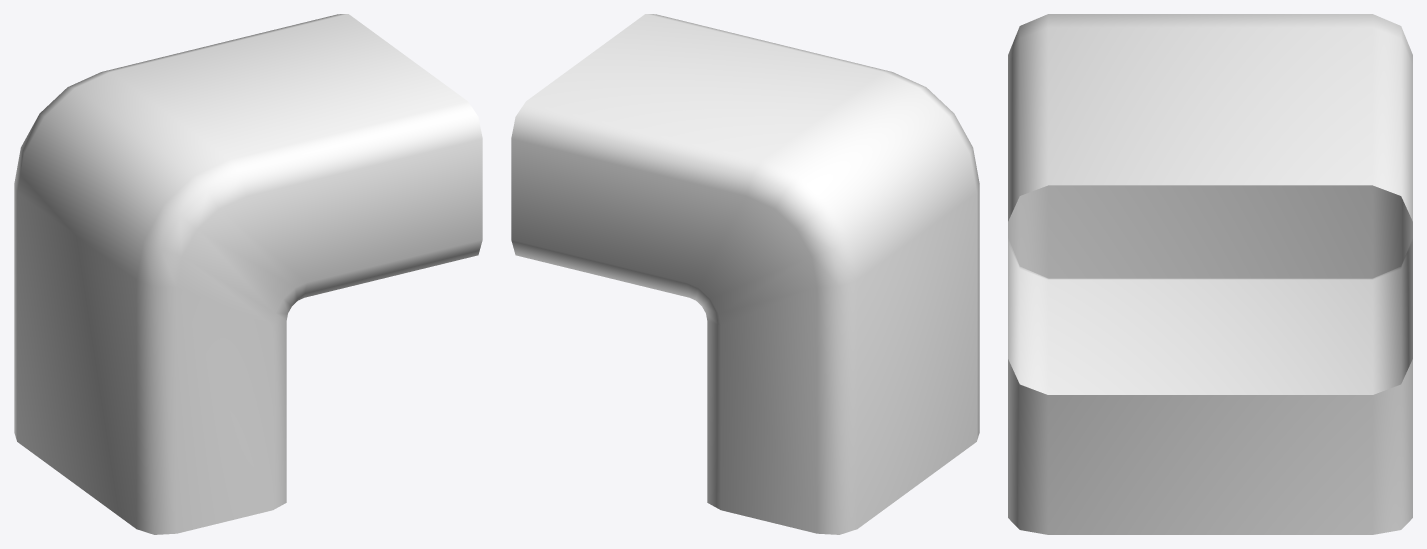
File: BoardBorder_1.fbx
The picture shows the model from 3 angles, left to right: view 1: azimuth 30°, elevation 25°; view 2: azimuth 150°, elevation 25°; view 3: azimuth 270°, elevation 25°; orthographic projection. The views are drawn at different scales.
Visible parts, largest first — view 1: BoardBorder_1; view 2: BoardBorder_1; view 3: BoardBorder_1.
Boxes of the visible parts, x1,y1,x2,y2 form: BoardBorder_1: (14,14,482,534); BoardBorder_1: (511,14,979,534); BoardBorder_1: (1008,14,1412,534).
Bounding box in the file's own units: 0.9 × 0.9 × 0.7.
